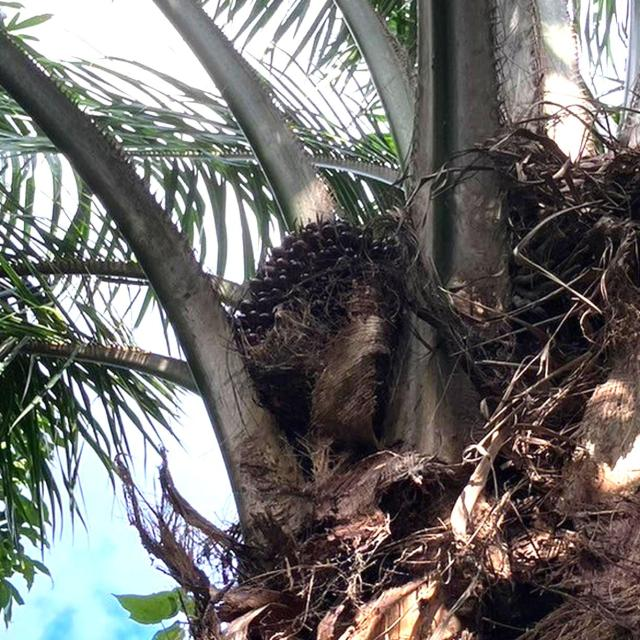ripe: (218, 206, 399, 434)
